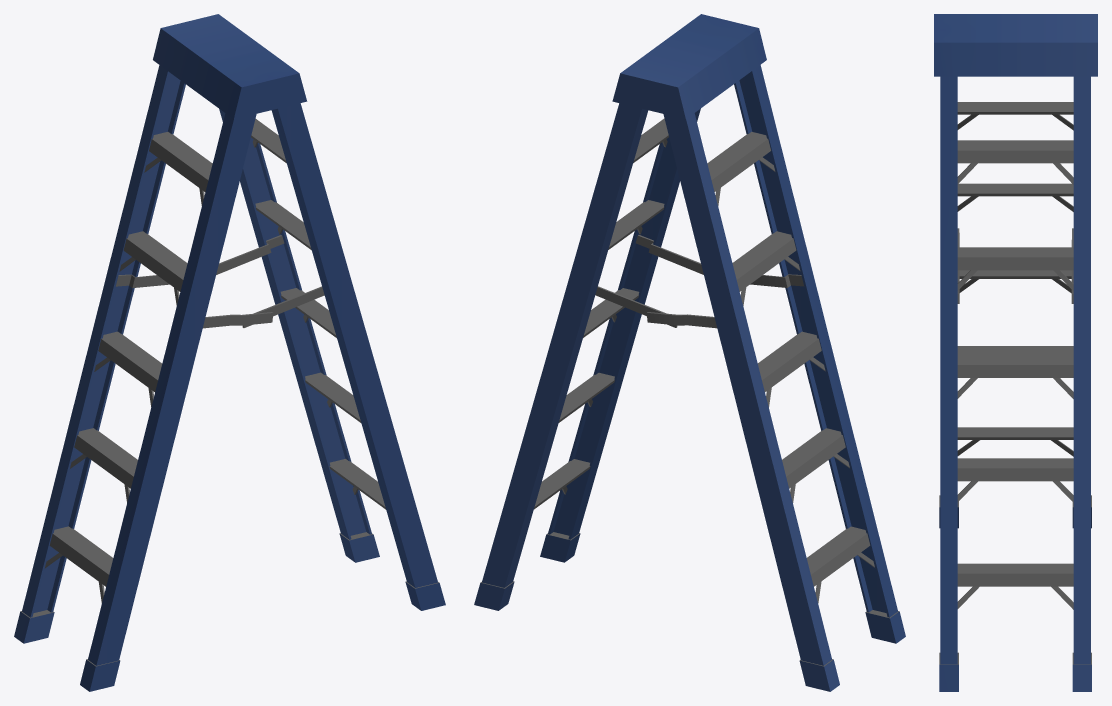
File: Ladder.fbx
3 renders of one model, left to right at view 1: azimuth 30°, elevation 25°; view 2: azimuth 150°, elevation 25°; view 3: azimuth 270°, elevation 25°, orthographic.
Visible parts, largest first — view 1: Ladder.001; view 2: Ladder.001; view 3: Ladder.001.
Part boxes in pixels (left/top/right/bottom): Ladder.001: left=14, top=14, right=445, bottom=691; Ladder.001: left=474, top=14, right=905, bottom=691; Ladder.001: left=934, top=14, right=1097, bottom=691.
Bounding box in the file's own units: 4943 × 7555 × 1947.
